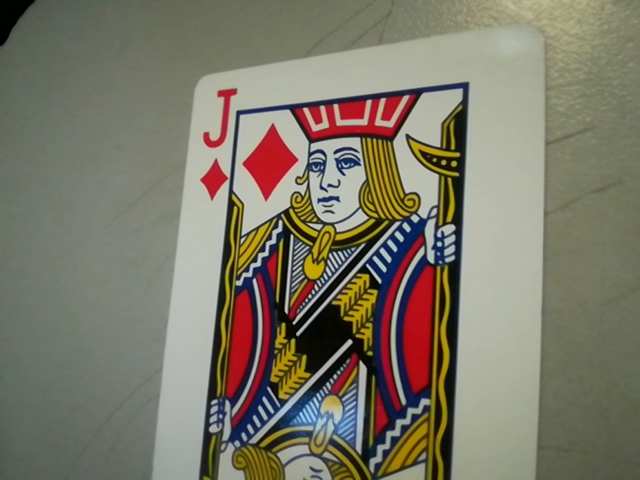fk j: (188, 82, 237, 204)
